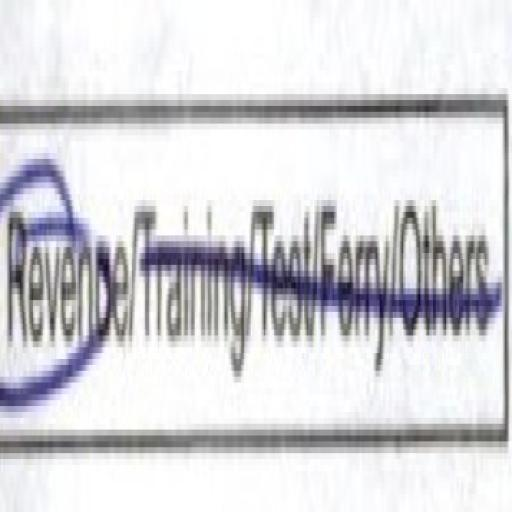check: (0, 59, 131, 512)
